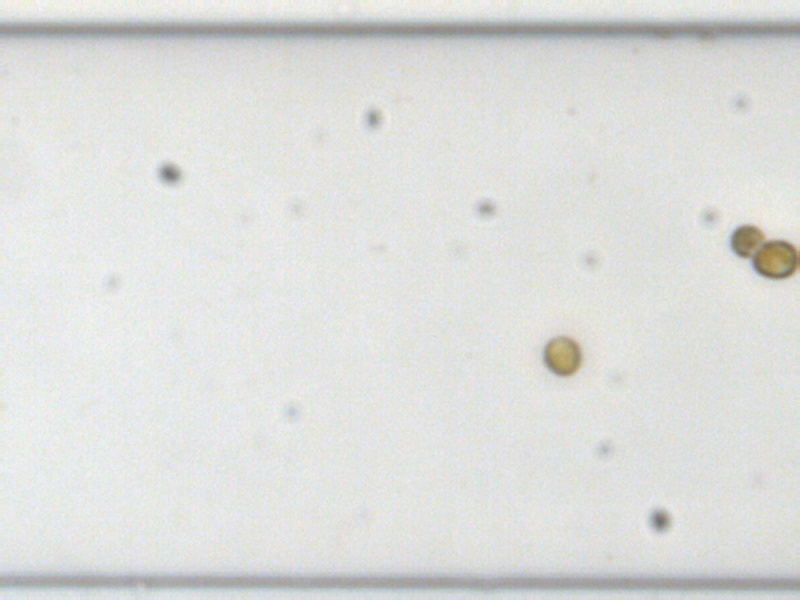Effrenium: (748, 237, 799, 280), (539, 332, 583, 379), (727, 222, 764, 260)
